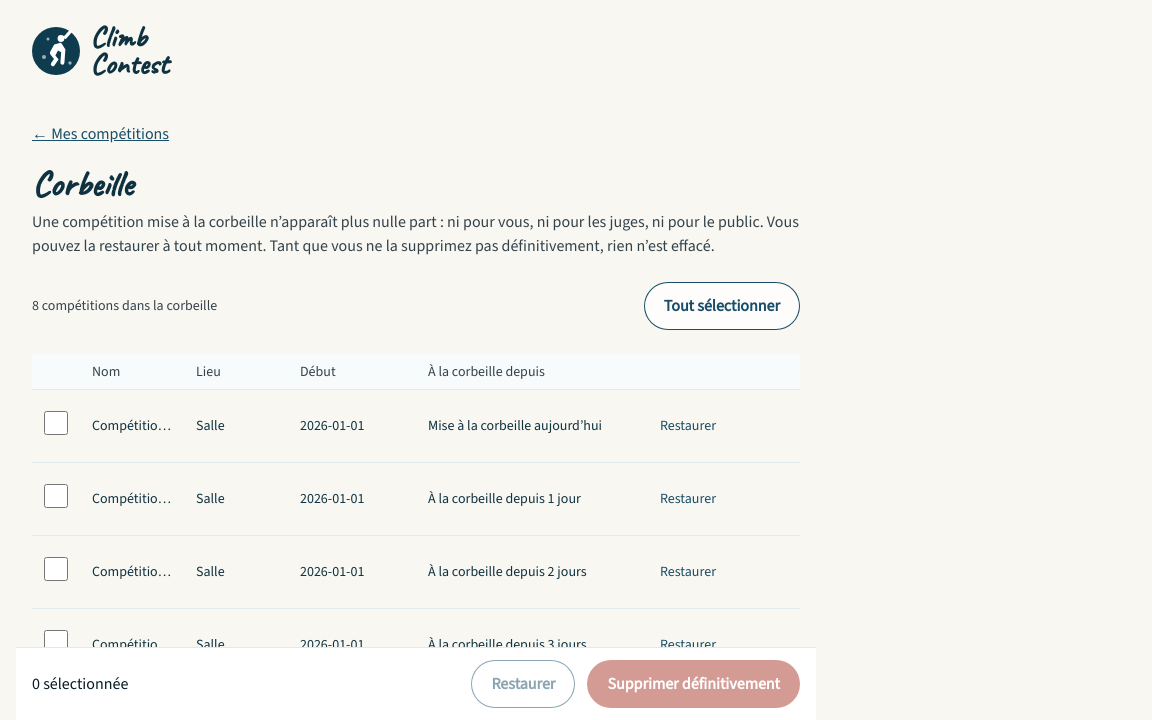
Test: CompetitionTrash › suppression définitive › abrège une longue liste de noms dans la modale
Click the button "Tout sélectionner".
click(722, 306)  # box left=644, top=282, right=800, bottom=330
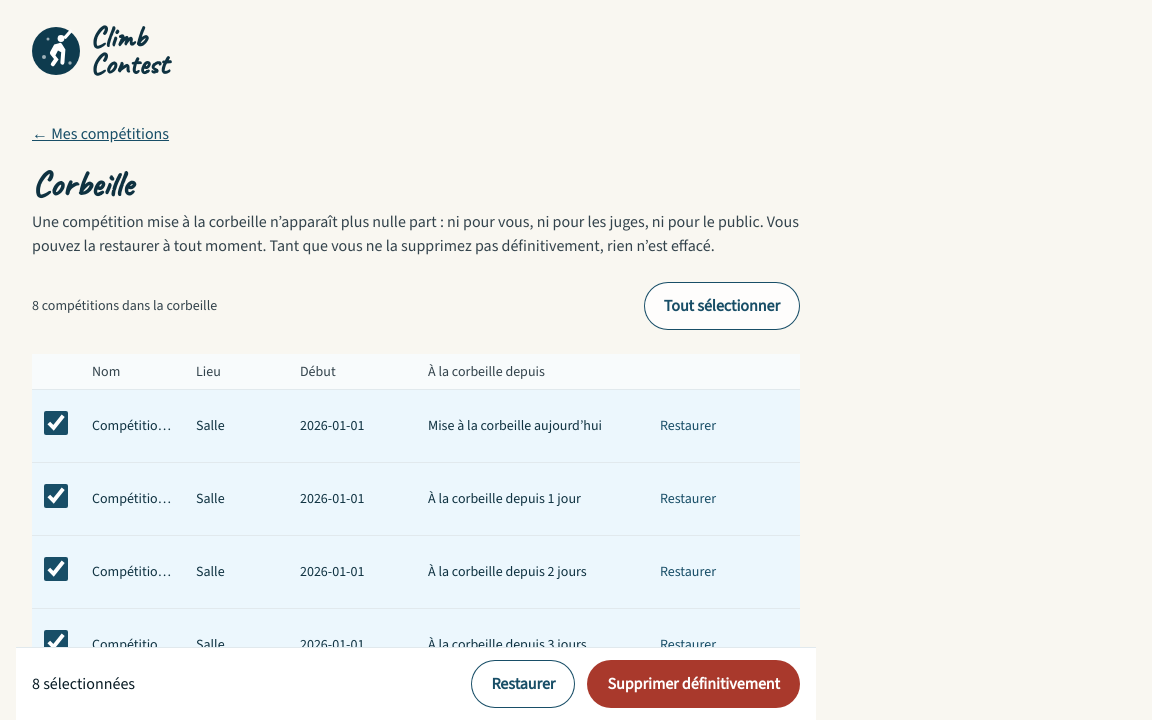
Click the button "Supprimer définitivement".
click(694, 684)  # box left=587, top=660, right=800, bottom=708
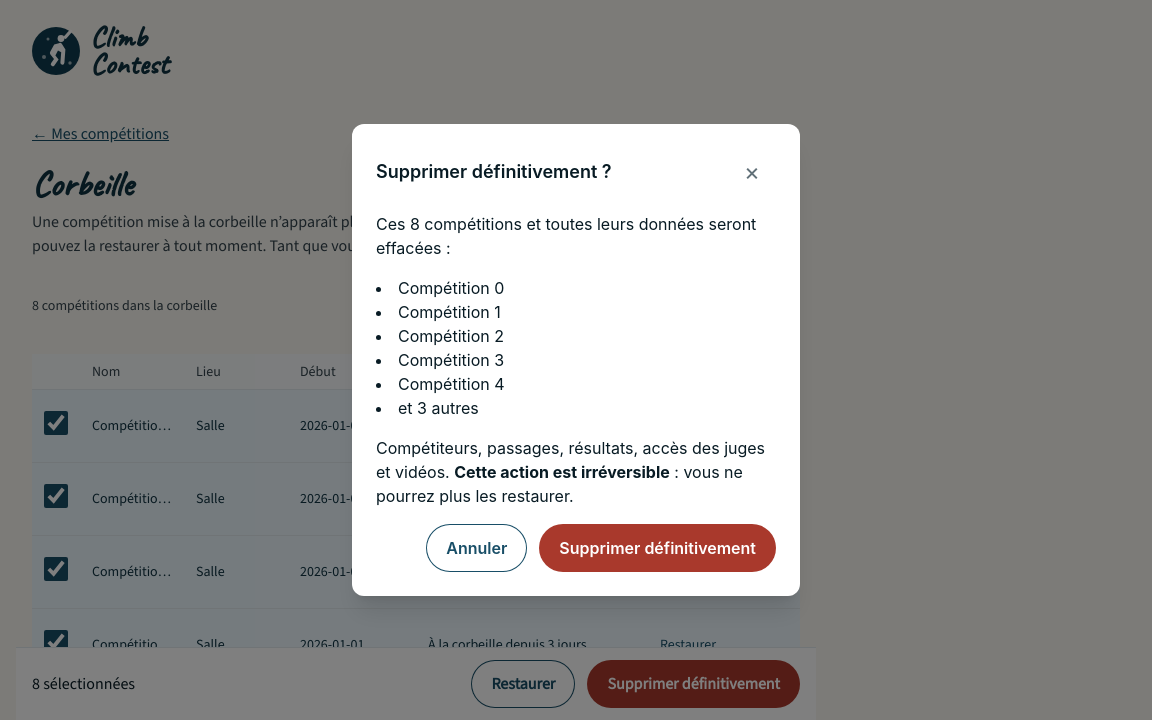
Expected: the number of list items is 6, left=398, top=278, right=504, bottom=298; left=398, top=302, right=501, bottom=322; left=398, top=326, right=504, bottom=346; left=398, top=350, right=504, bottom=370; left=398, top=374, right=504, bottom=394; left=398, top=398, right=479, bottom=418
Expected: the dialog shows "et 3 autres", left=398, top=398, right=479, bottom=418
